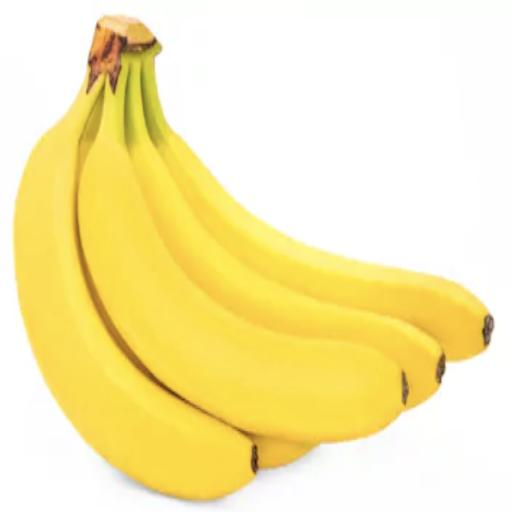banana: (79, 87, 407, 443), (126, 70, 444, 407), (143, 61, 493, 360), (14, 74, 256, 499), (82, 259, 164, 387), (249, 435, 314, 469)
